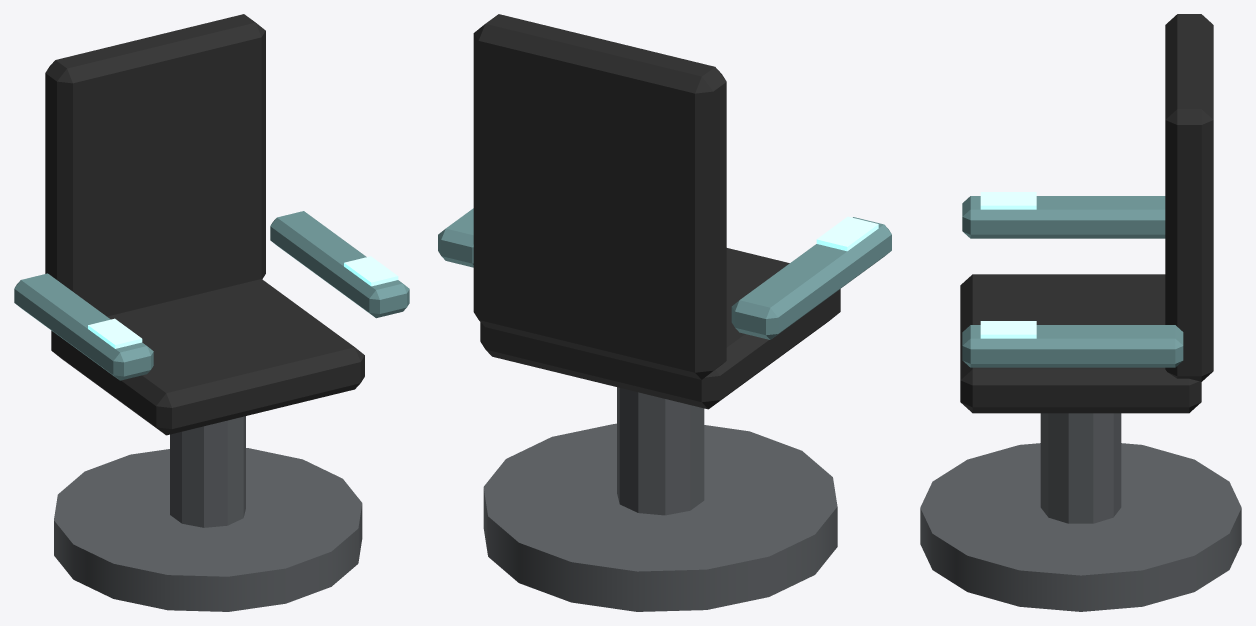
File: captain_chair.glb
The picture shows the model from 3 angles, left to right: view 1: azimuth 30°, elevation 25°; view 2: azimuth 150°, elevation 25°; view 3: azimuth 270°, elevation 25°; orthographic projection. The views are drawn at different scales.
Parts seen in each view (by area): view 1: captain_chair; view 2: captain_chair; view 3: captain_chair.
Part boxes in pixels (x1=…): captain_chair: x1=14, y1=14, x2=409, y2=611; captain_chair: x1=438, y1=14, x2=891, y2=611; captain_chair: x1=920, y1=14, x2=1241, y2=611.
Size of the model in its own units: 0.88 by 1.33 by 0.8.
